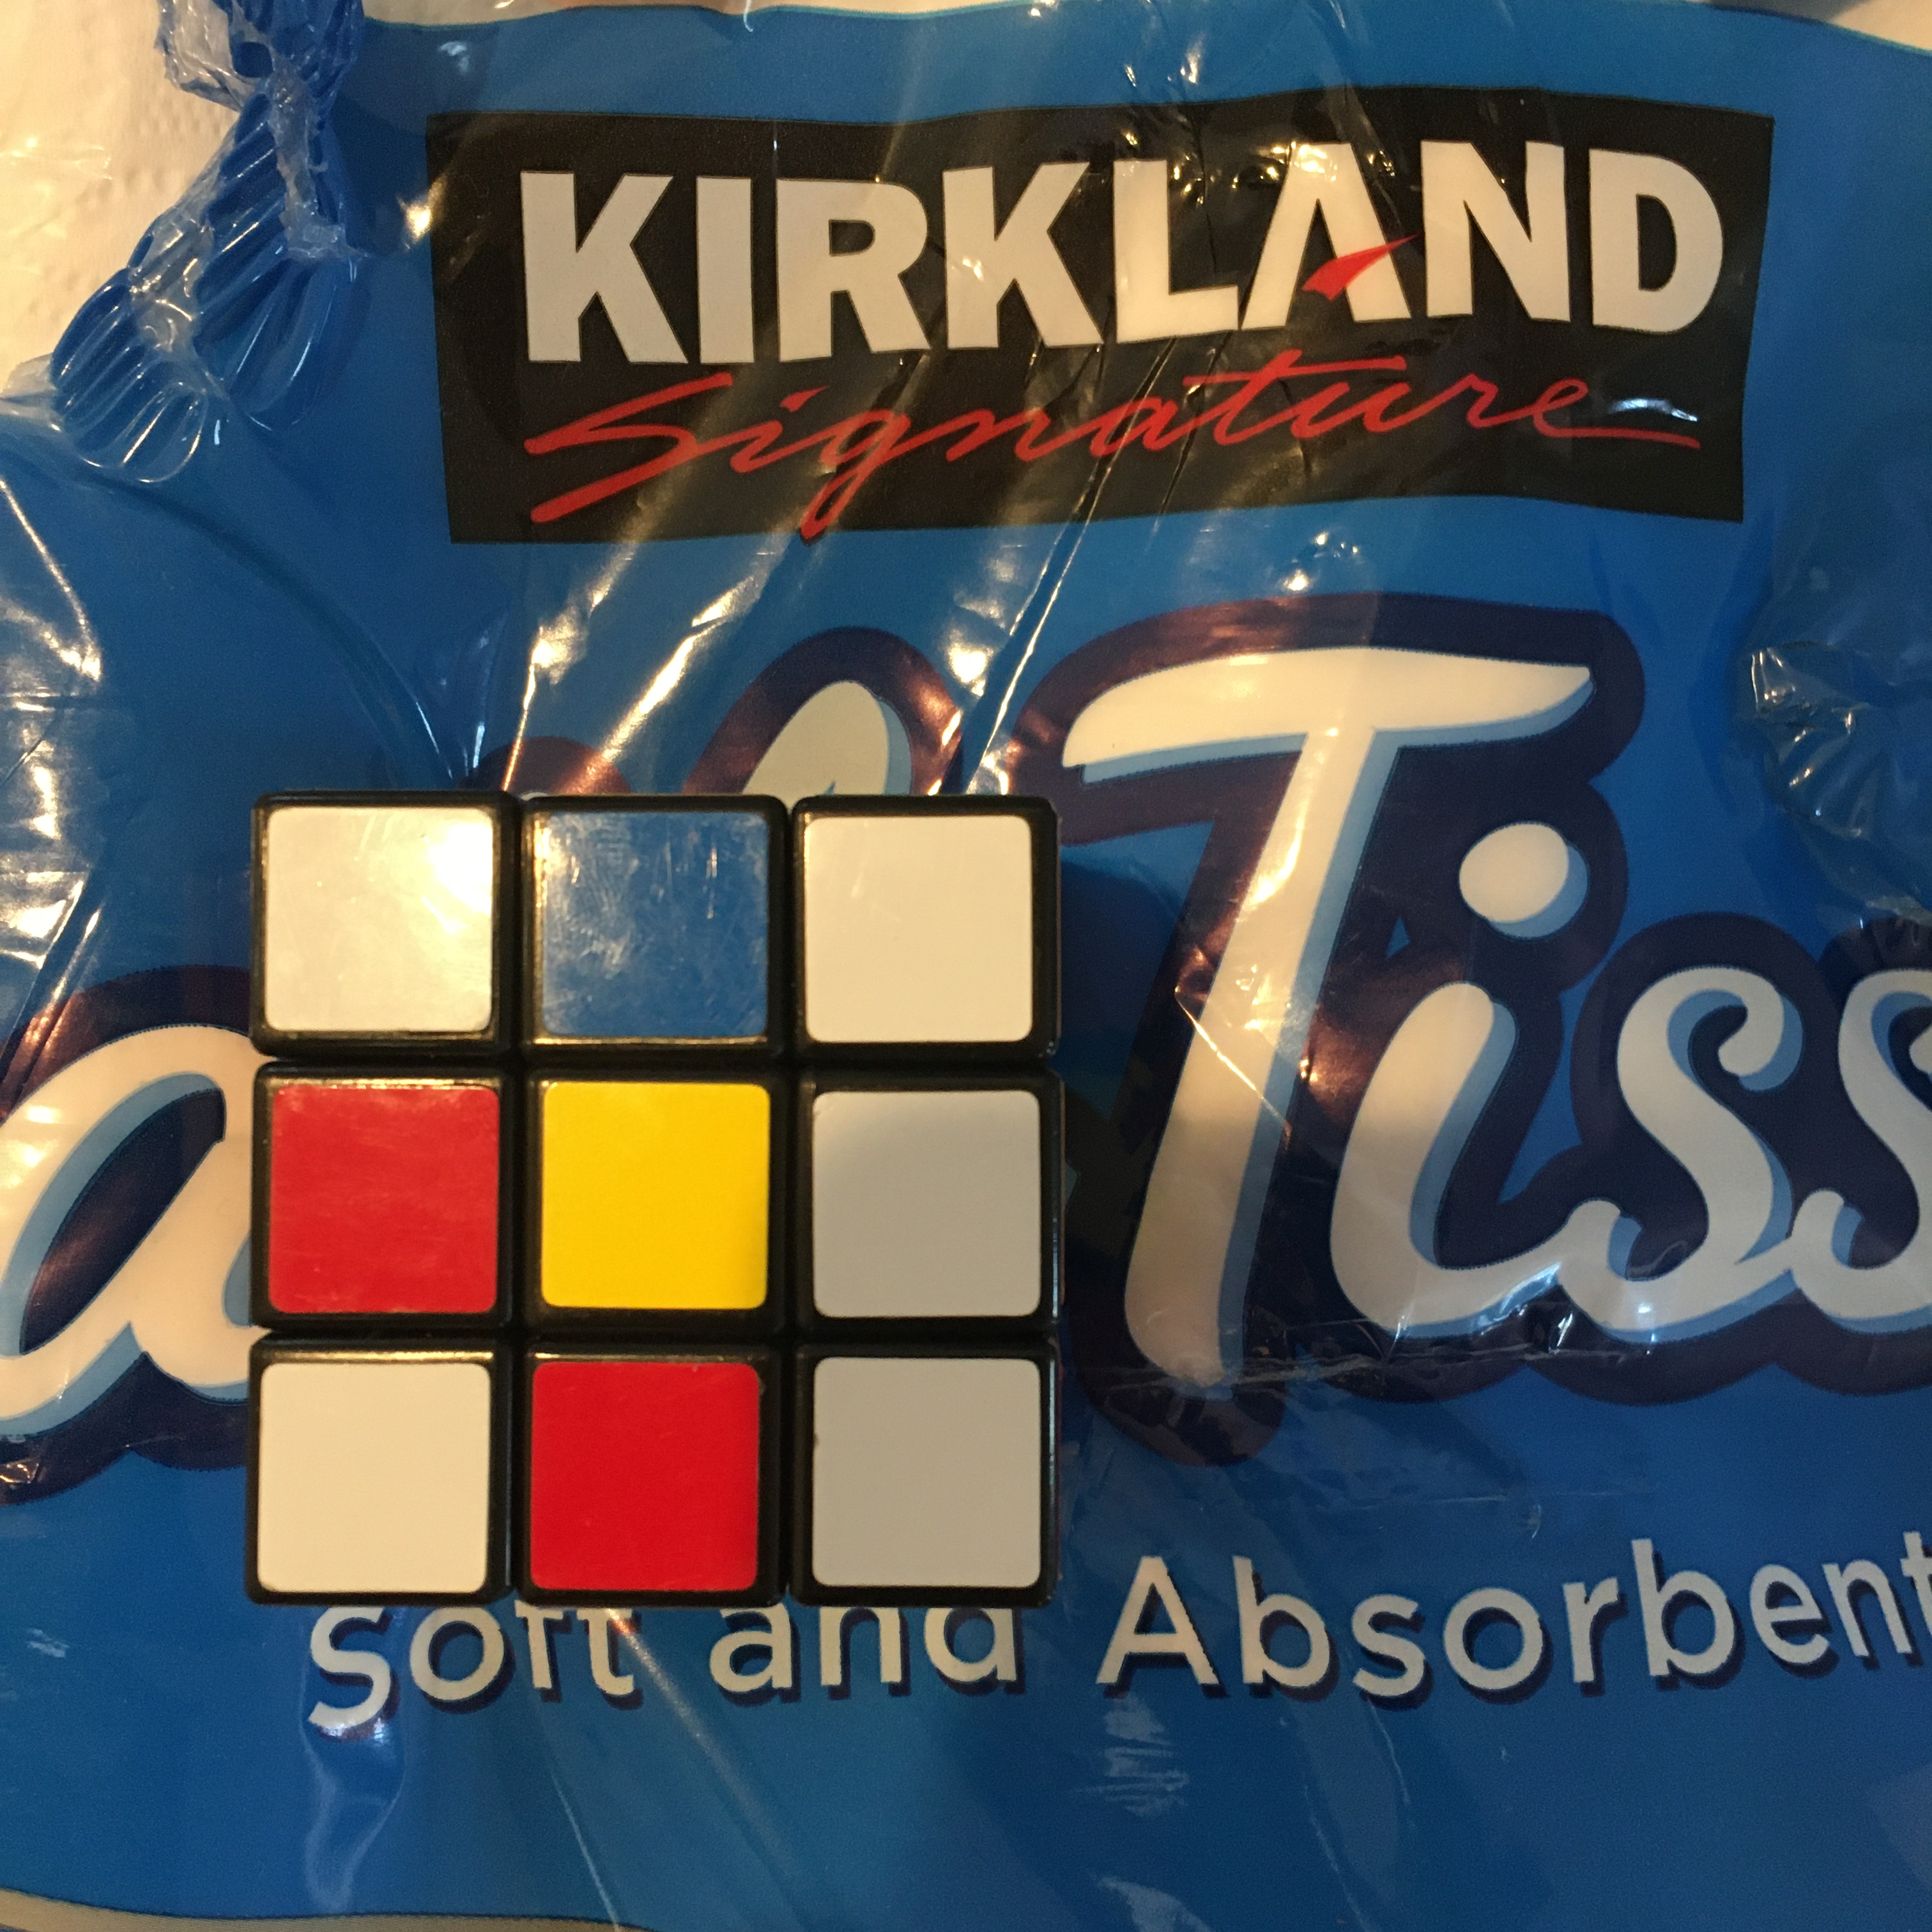face: (254, 788, 1052, 1604)
